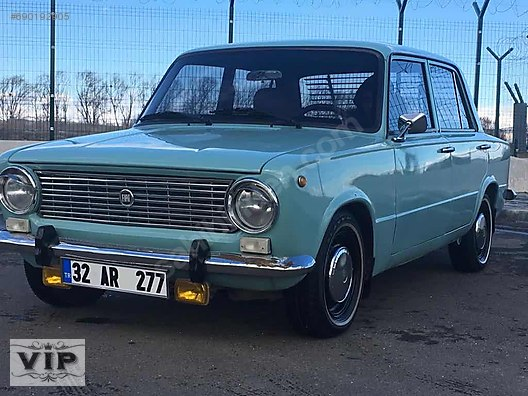murat: (1, 42, 505, 328)
